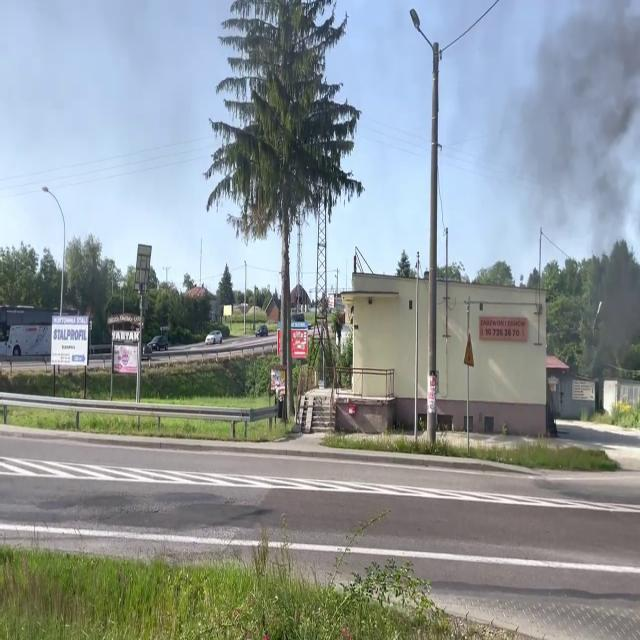Smoke: (503, 0, 640, 358)
